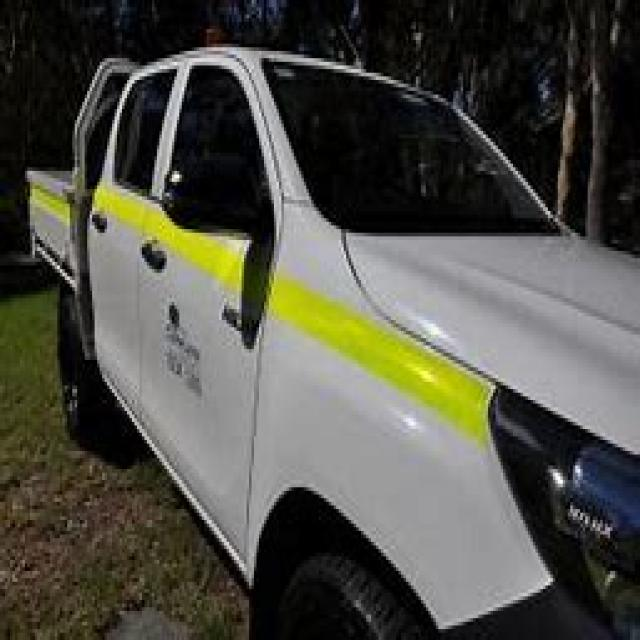light_vehicle: (25, 22, 637, 625)
